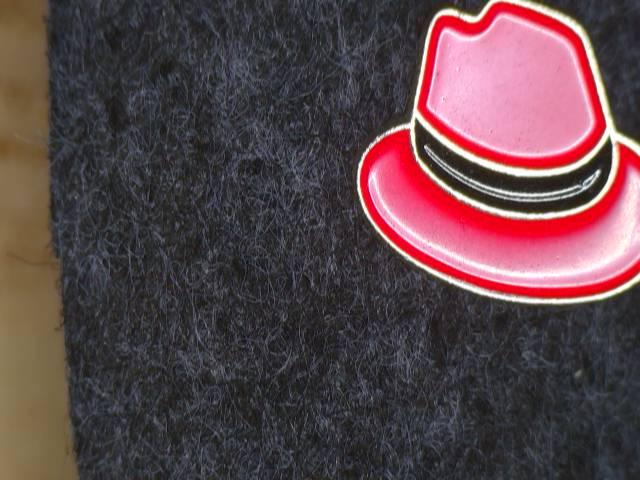Red-Hat: (351, 0, 640, 334)
